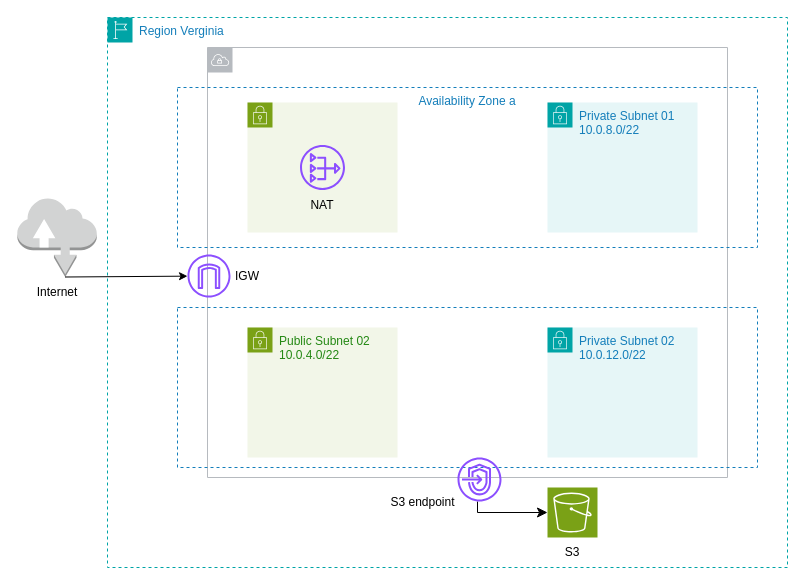
Image size: 806x585. Some labels were removed from this diagram. The box of each missing label's shape, as (x1, y1, x2, y2) in pixels:
Availability Zone b: (176, 306, 758, 468)
Public Subnet 01 10.0.0.0/22: (246, 102, 398, 232)
VPC 10.0.0.0/16: (206, 46, 728, 478)
